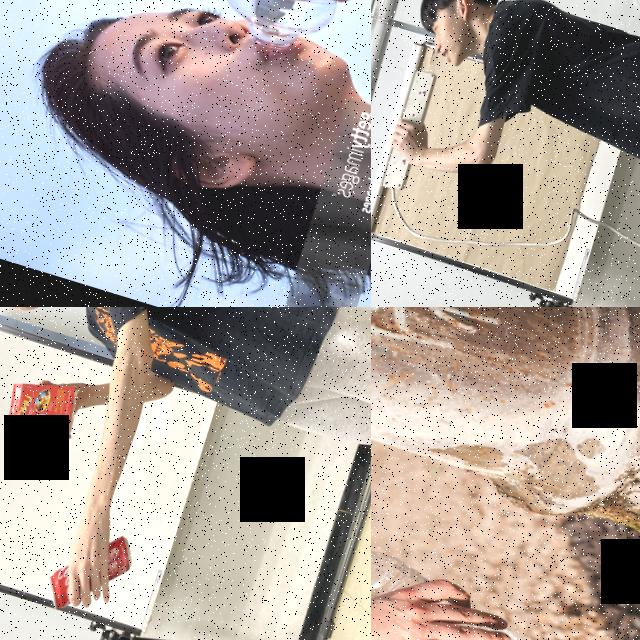bottle: (371, 527, 550, 640), (195, 0, 371, 64)
can: (40, 518, 140, 630)
